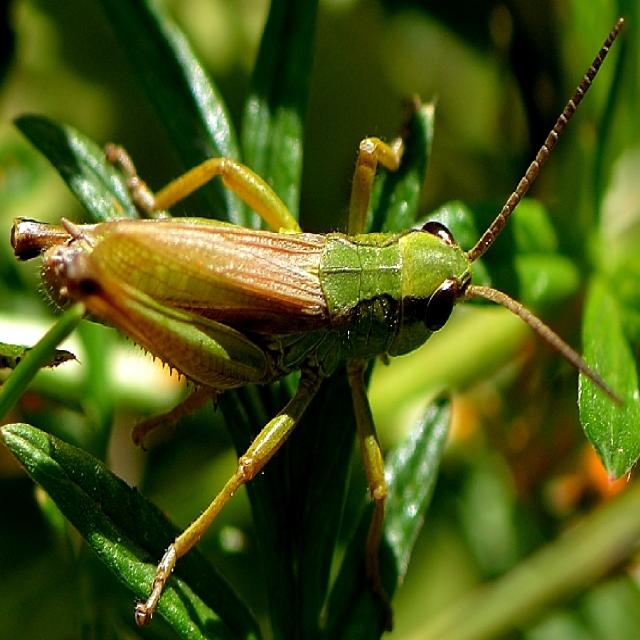ZhaMeng: (37, 136, 532, 434)
